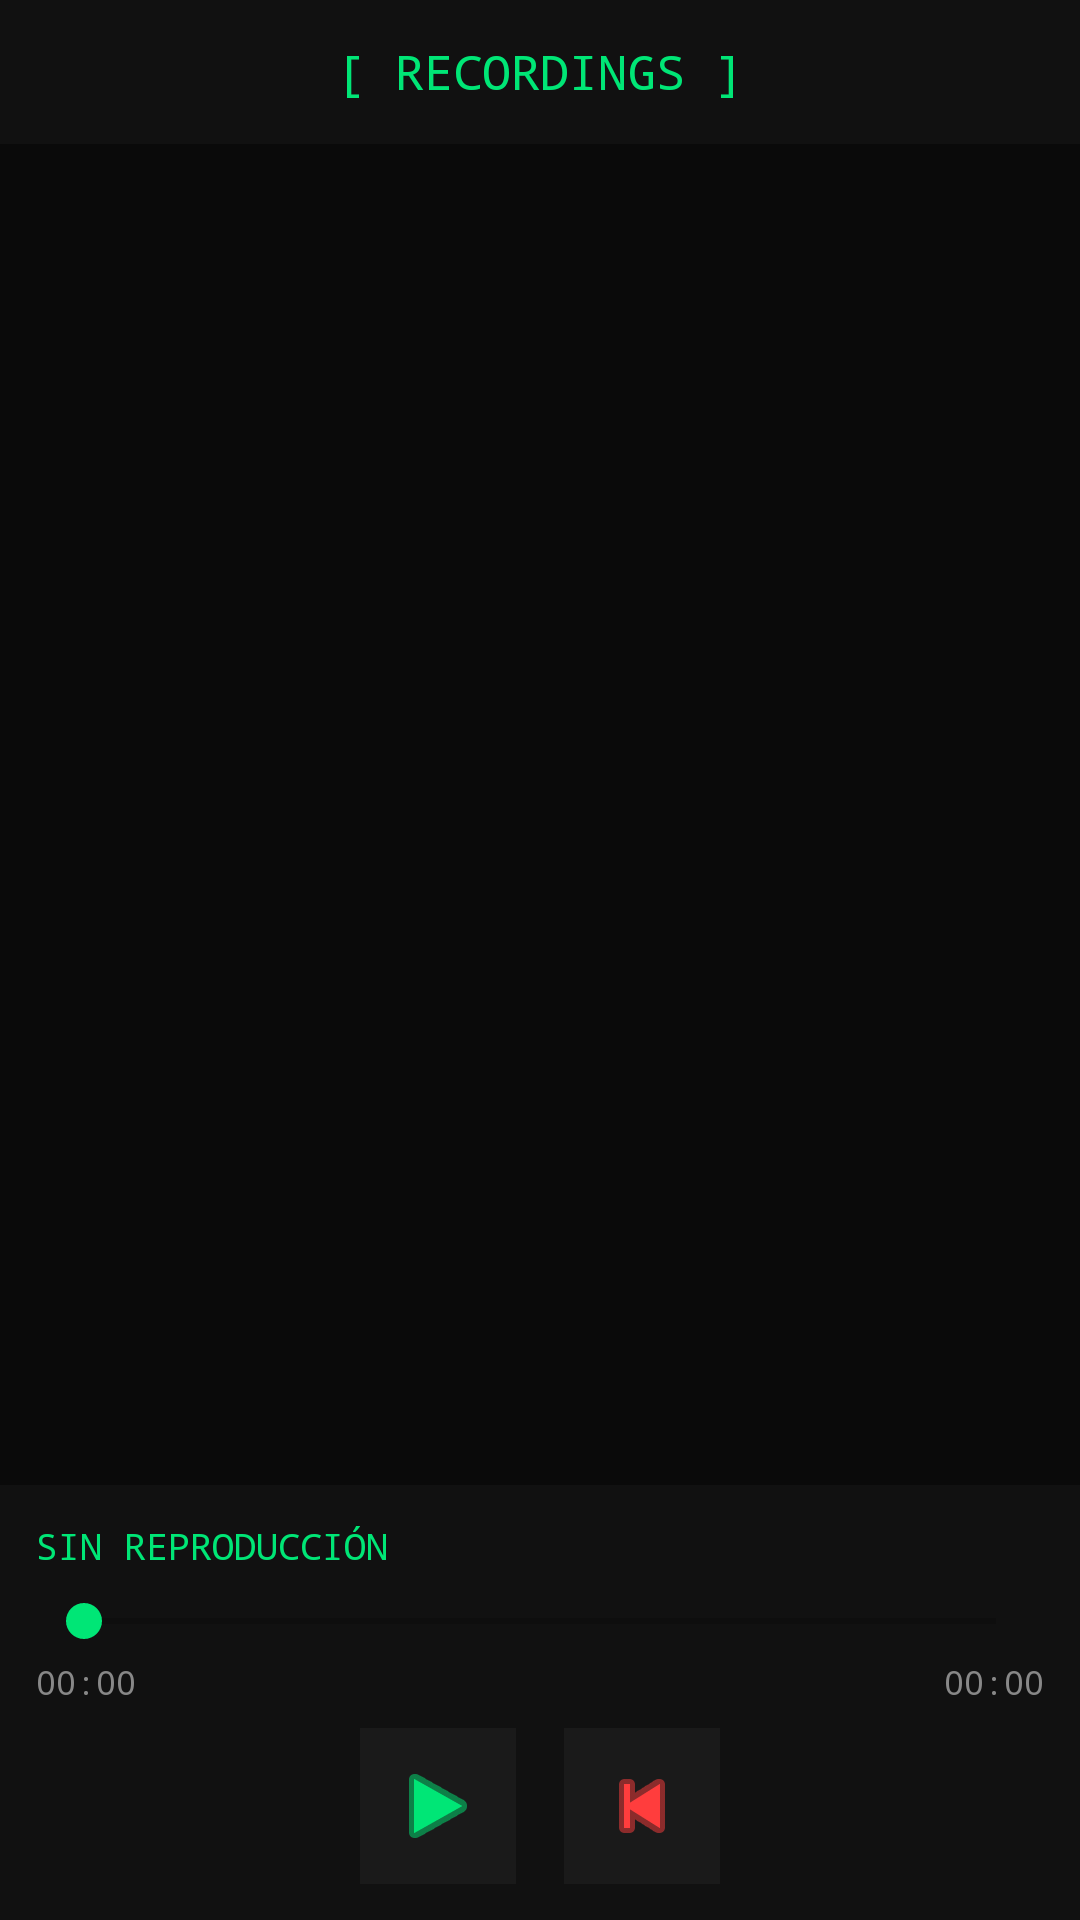

Locate icon controls on the screen. Image size 1080*1920, boxes as (x1, y1, x2, y2).
play: (409, 1774, 467, 1838)
previous: (619, 1779, 665, 1833)
